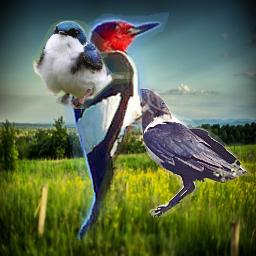Crow: (113, 87, 251, 217)
Swallow: (32, 20, 134, 109)
Woodpecker: (51, 5, 173, 241)
